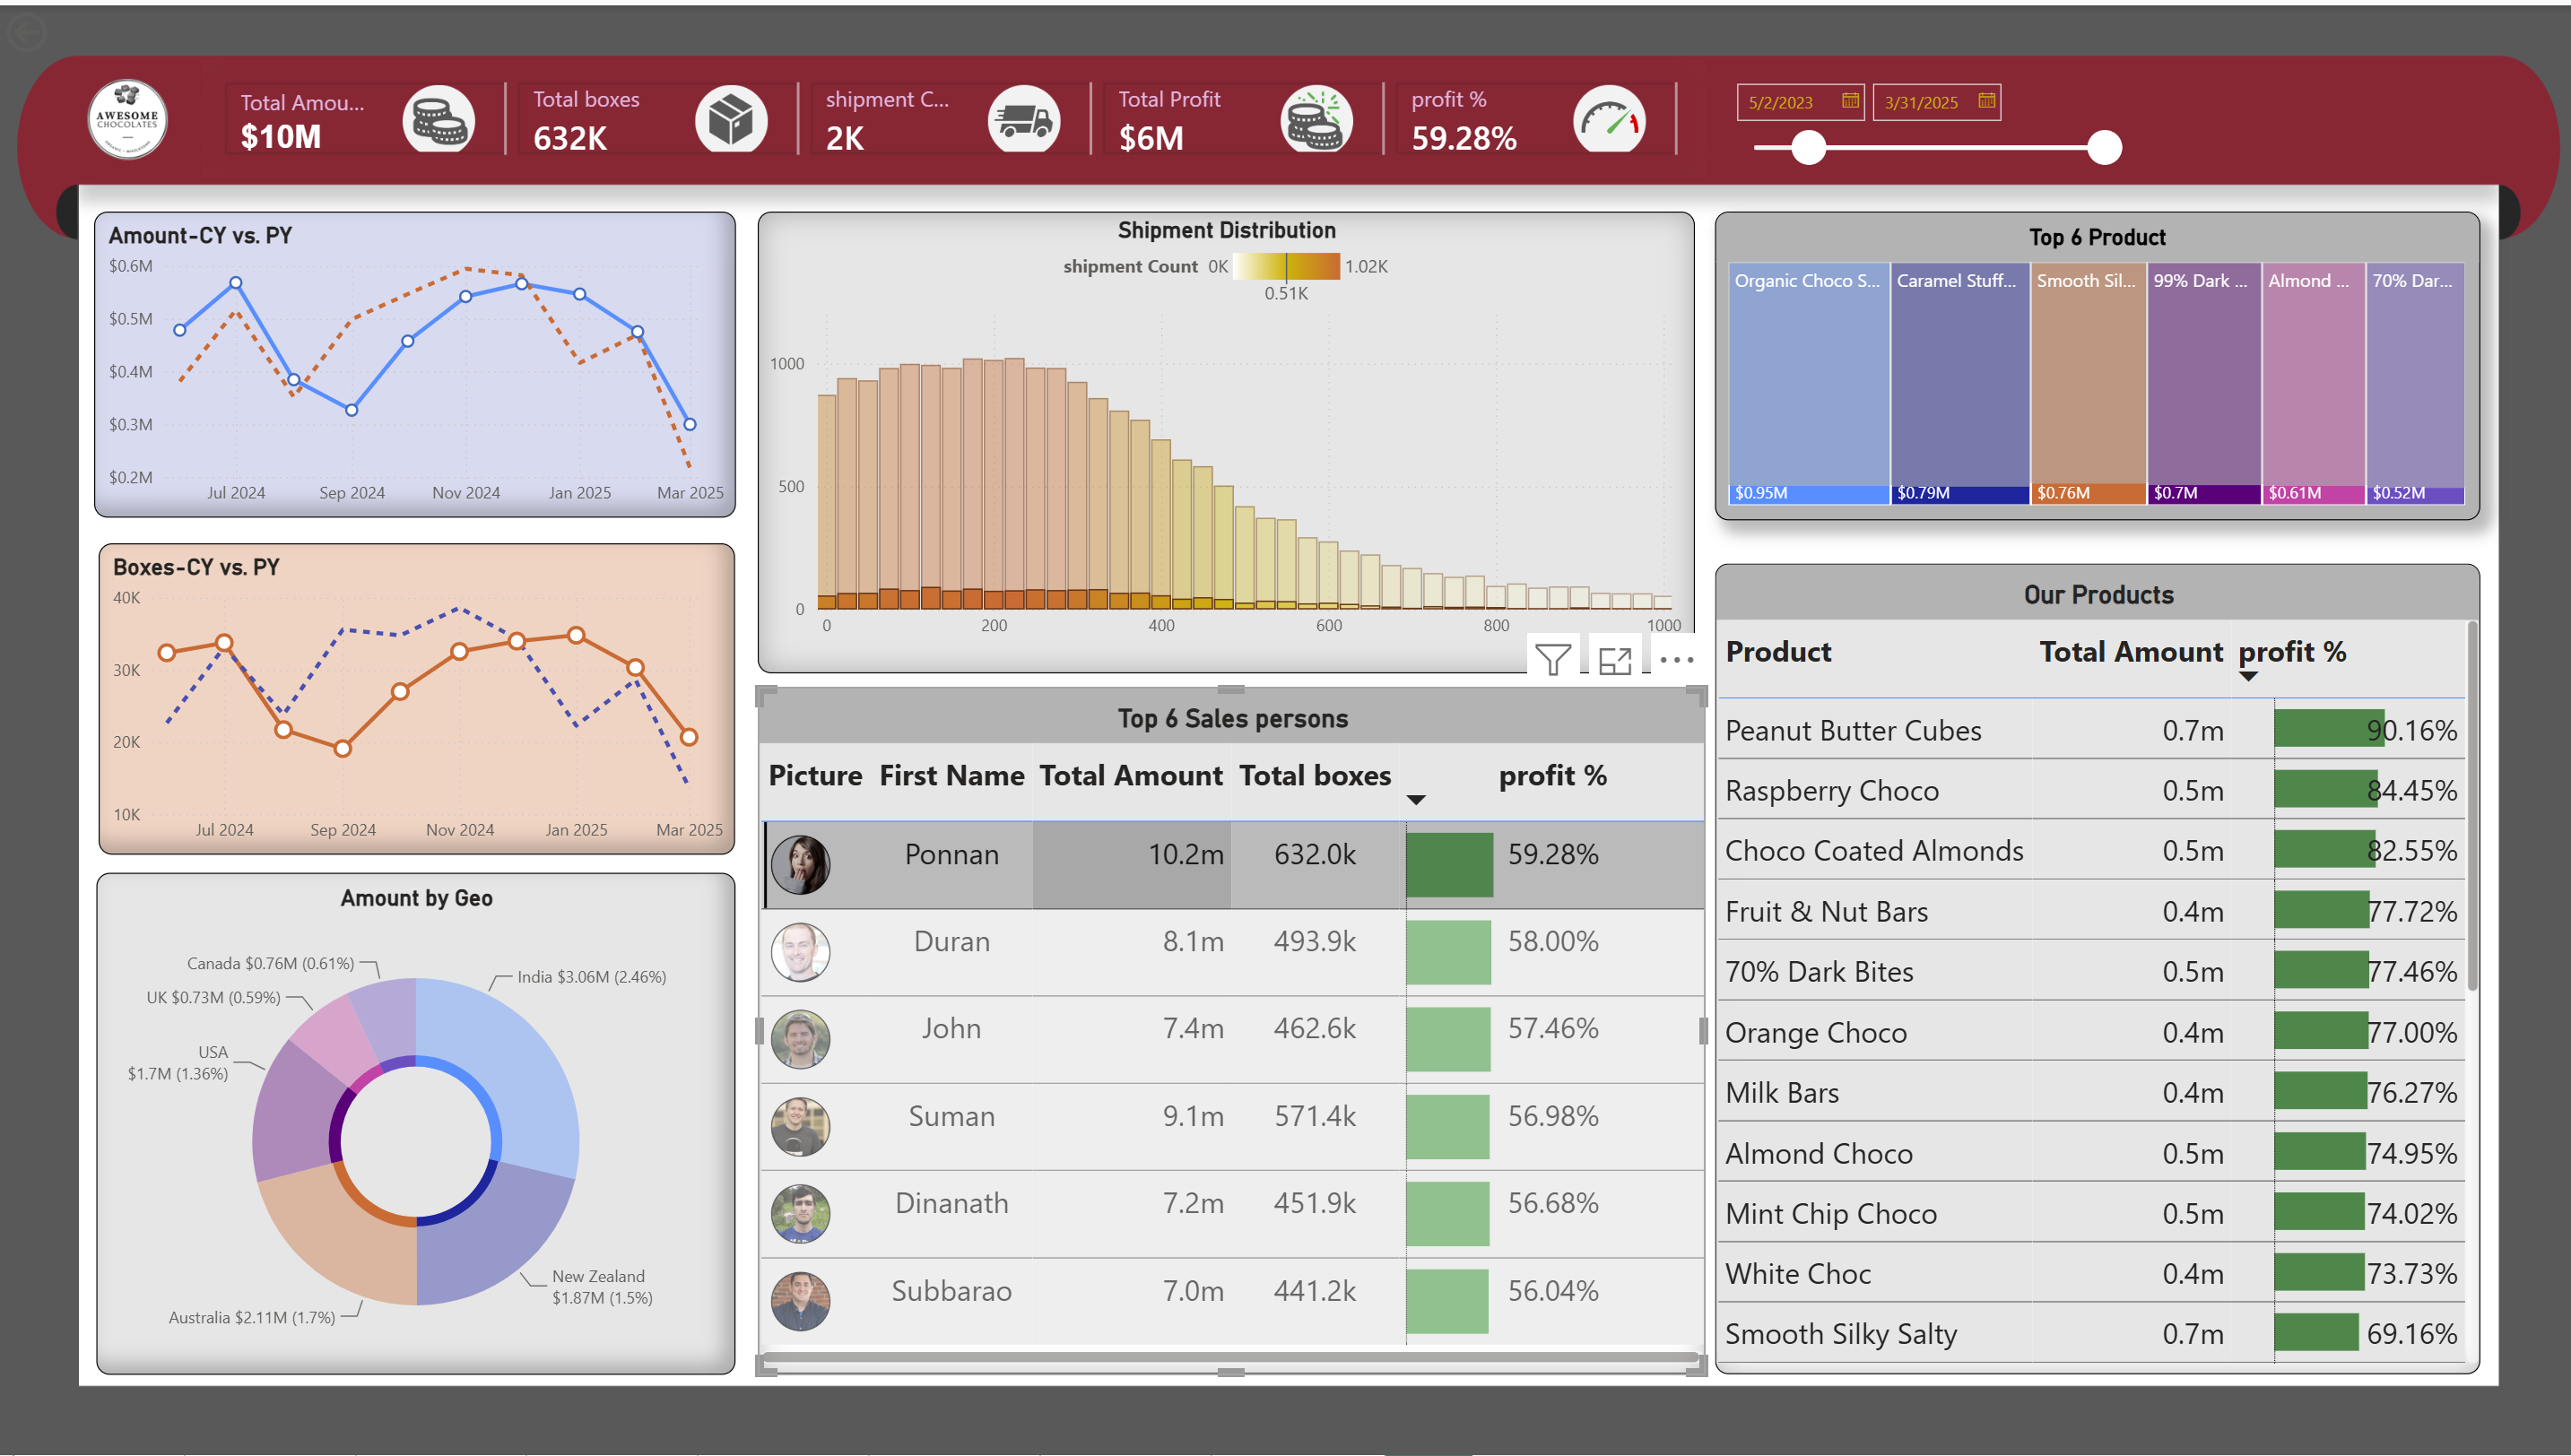

The page's visual inventory and layout, read from the dashboard file:
{"tool":"powerbi","page":{"name":"Page 8","canvas":[1920,1080],"ordinal":7},"visuals":[{"type":"lineChart","title":"Amount-CY vs. PY","fields":{"Y":["shipments.Total Amount","shipments.Total amount(last year)"],"Category":["calendar.Start of Month"]},"box":[70,154,478,228],"z":0},{"type":"lineChart","title":"Boxes-CY vs. PY","fields":{"Category":["calendar.Start of Month"],"Y":["shipments.Total boxes","calendar.Total Boxes(last year)"]},"box":[74,400,474,232],"z":1000},{"type":"donutChart","title":"Amount by Geo","fields":{"Category":["locations.Geo"],"Y":["shipments.Total Amount"]},"box":[72,646,476,374],"z":2000},{"type":"clusteredColumnChart","title":"Shipment Distribution","fields":{"Category":["shipments.Boxes (bins)"],"Y":["shipments.shipment Count"]},"box":[564,154,698,344],"z":3000},{"type":"tableEx","title":"Top 6 Sales persons","fields":{"Values":["people.Picture","people.First Name","shipments.Total Amount","shipments.Total boxes","shipments.profit %"]},"box":[564,508,706,512],"z":4000},{"type":"treemap","title":"Top 6 Product","fields":{"Values":["shipments.Total Amount"],"Group":["products.Product"]},"box":[1278,154,570,230],"z":5000},{"type":"actionButton","box":[0,0,100,40],"z":6000},{"type":"tableEx","title":"Our Products","fields":{"Values":["products.Product","shipments.Total Amount","shipments.profit %"]},"box":[1278,416,570,604],"z":7000},{"type":"cardVisual","fields":{"Data":["shipments.Total Amount","shipments.Total boxes","shipments.shipment Count","shipments.Total Profit","shipments.profit %"]},"box":[150,40,1120,88],"z":8000},{"type":"slicer","fields":{"Values":["calendar.cal_date"]},"box":[1280,48,308,72],"z":9000}]}

Visuals, with their boxes in screenshot pixels (x1, y1, x2, y2), scaled from the page's 1920x1080 canvas onto the 2571x1456 screenshot:
"Amount-CY vs. PY" lineChart: locate(94, 208, 734, 515)
"Boxes-CY vs. PY" lineChart: locate(99, 539, 734, 852)
"Amount by Geo" donutChart: locate(97, 871, 734, 1375)
"Shipment Distribution" clusteredColumnChart: locate(755, 208, 1689, 672)
"Top 6 Sales persons" tableEx: locate(755, 685, 1700, 1375)
"Top 6 Product" treemap: locate(1711, 208, 2474, 517)
actionButton: locate(0, 0, 134, 54)
"Our Products" tableEx: locate(1711, 561, 2474, 1375)
cardVisual - shipments.Total Amount x shipments.Total boxes: locate(201, 54, 1700, 172)
slicer - calendar.cal_date: locate(1714, 65, 2126, 161)
